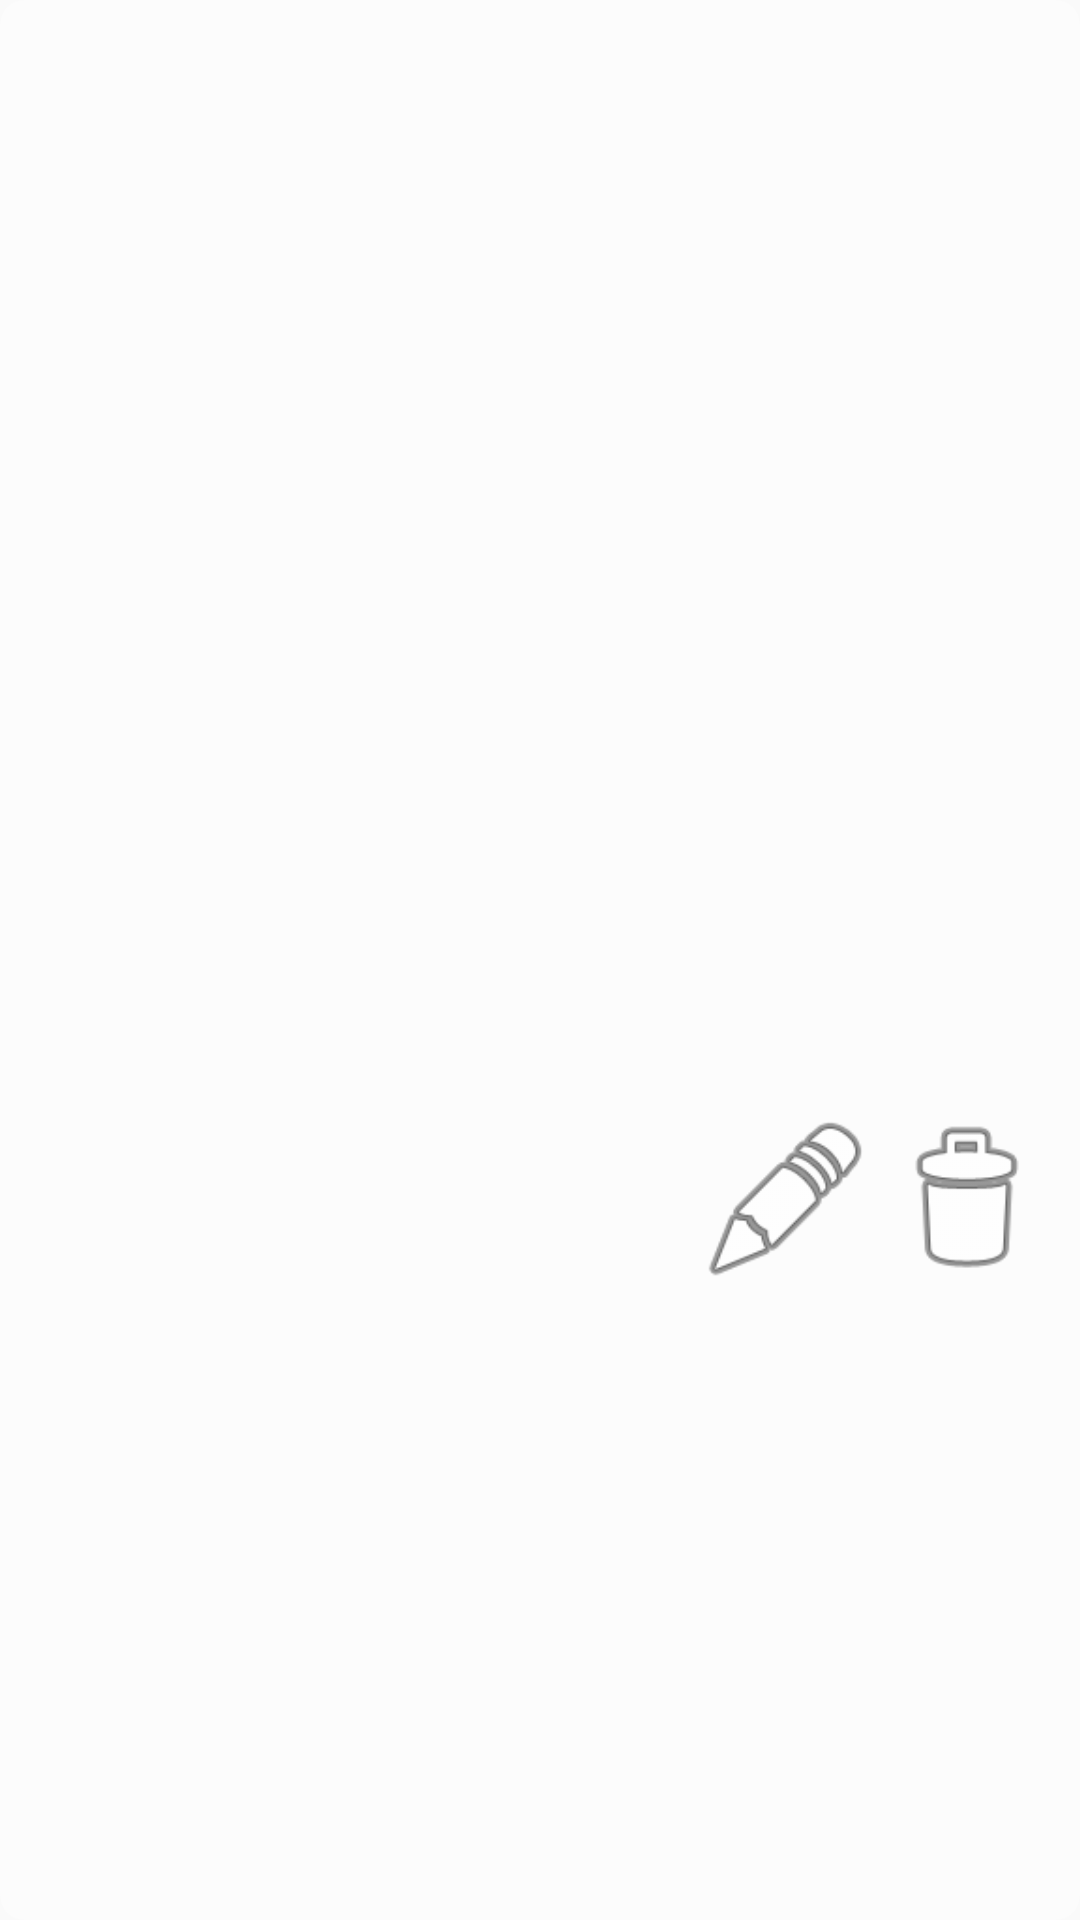

Where icons sit on this 1080px x 1920px app screen, as (x1, y1, x2, y2):
delete: (916, 1127, 1018, 1268)
edit: (709, 1123, 862, 1275)
